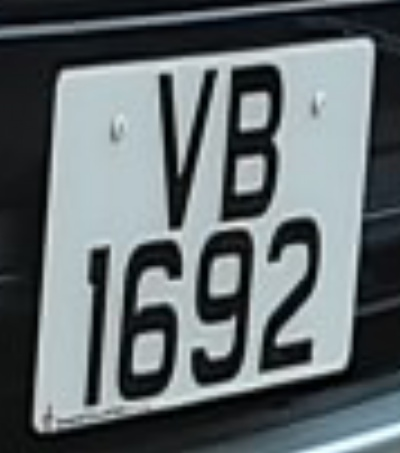1: (70, 235, 122, 421)
2: (254, 211, 328, 378)
6: (112, 230, 197, 399)
9: (181, 224, 257, 390)
B: (217, 60, 293, 224)
V: (142, 63, 225, 233)
